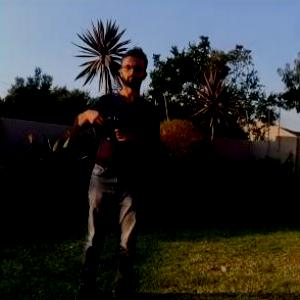follow: (64, 40, 164, 299)
